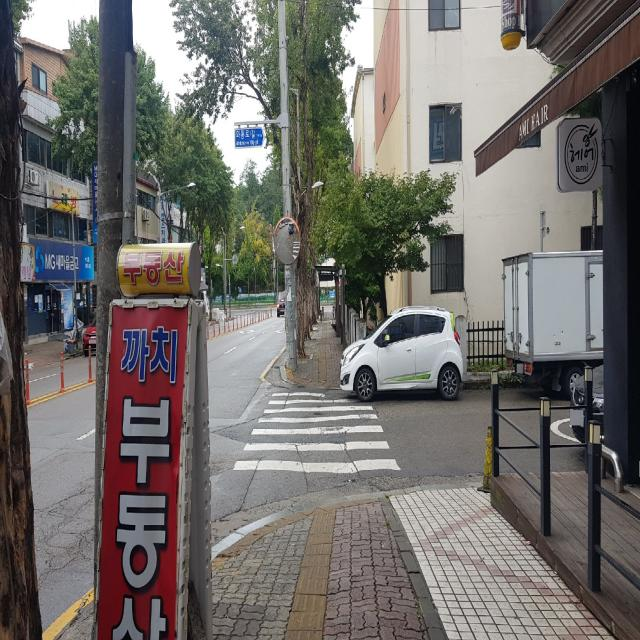횡단보도: (232, 390, 402, 475)
